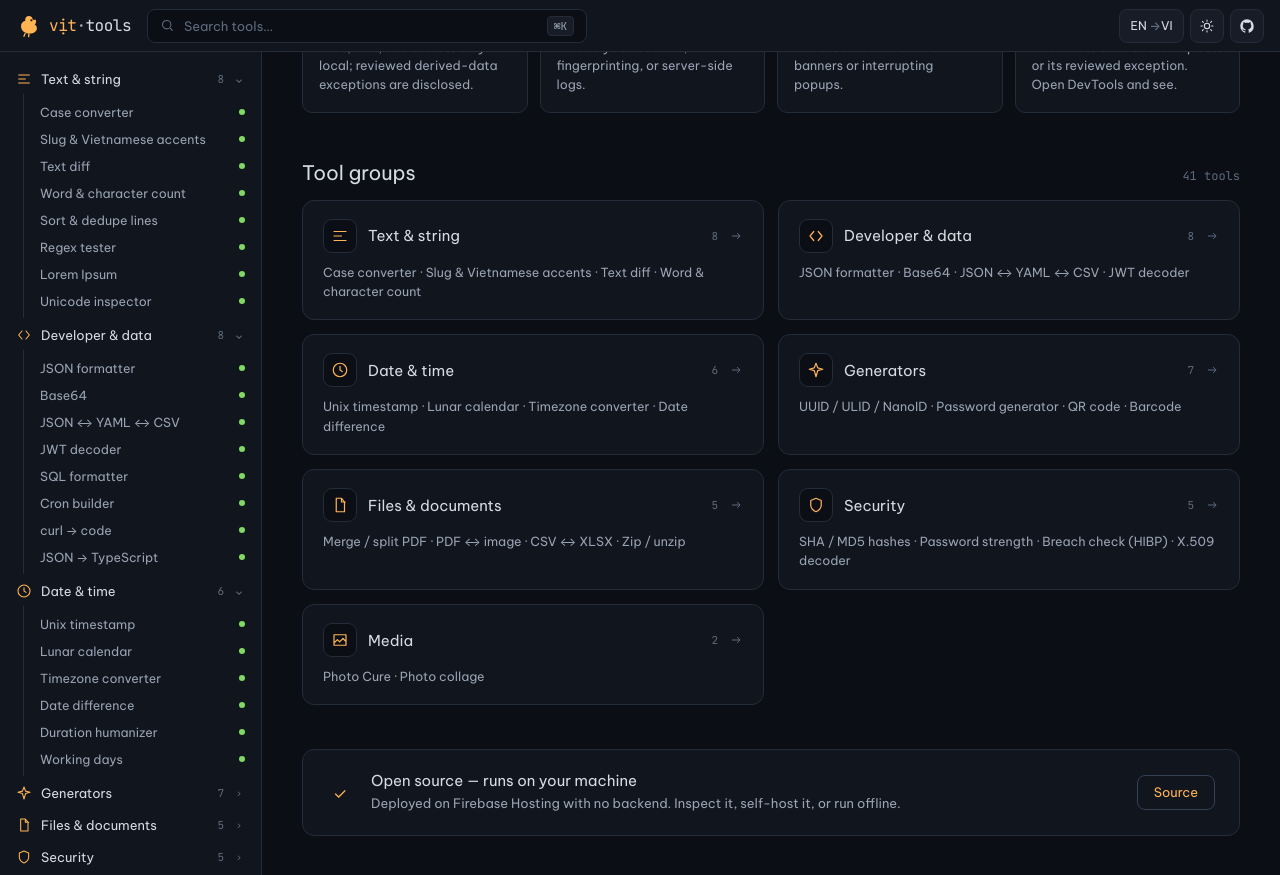
Test: tool platform shell › shows both offline-ready Media tools on its group hub
The image size is (1280, 875).
(page scrolled)
Click the link "Media 2 Photo Cure · Photo collage" at point(340, 640), box [302,604,764,706]
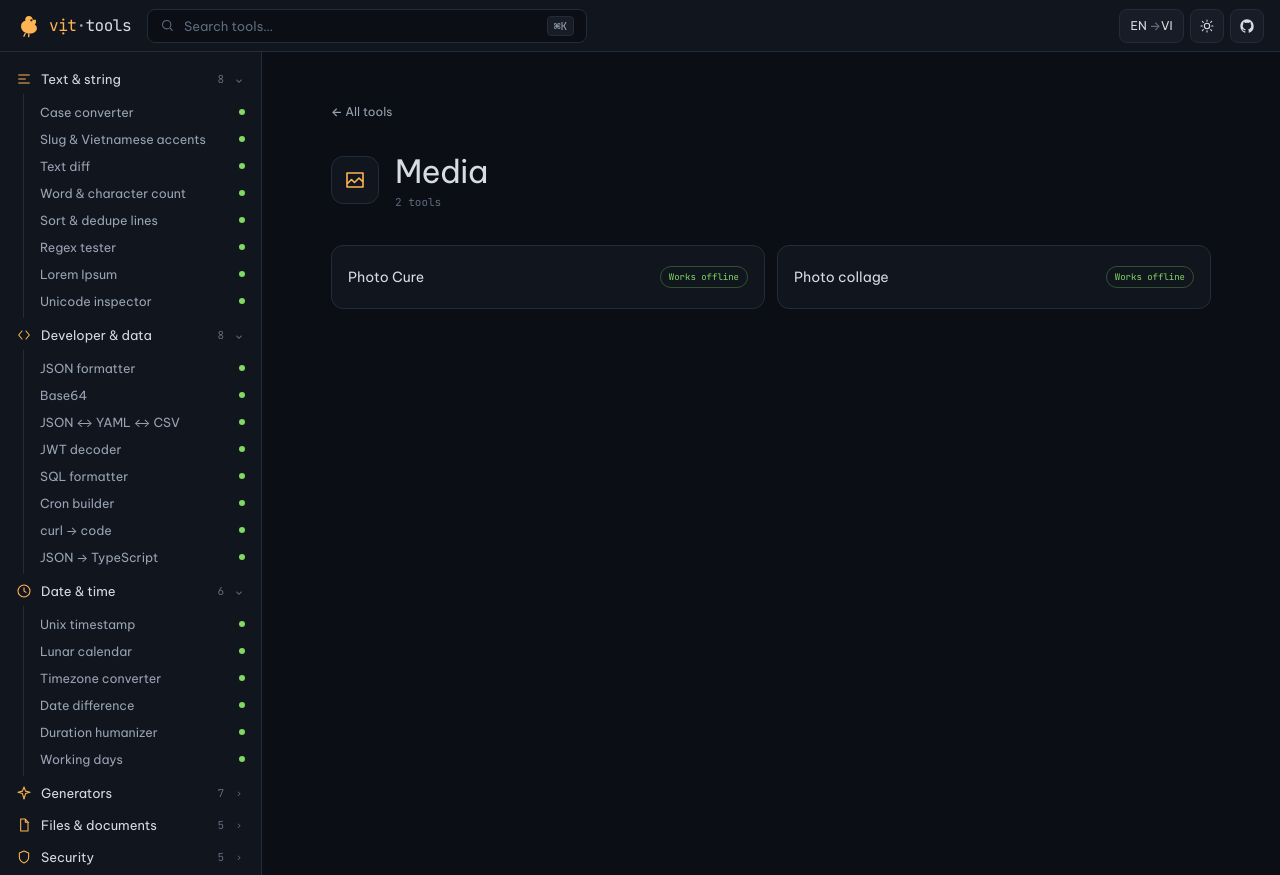
Expected: the heading "Media" is shown, [395,151,488,191]
Now the text "Works offline" is shown 2 times, box [660,266,748,288]; [1106,266,1194,288]
